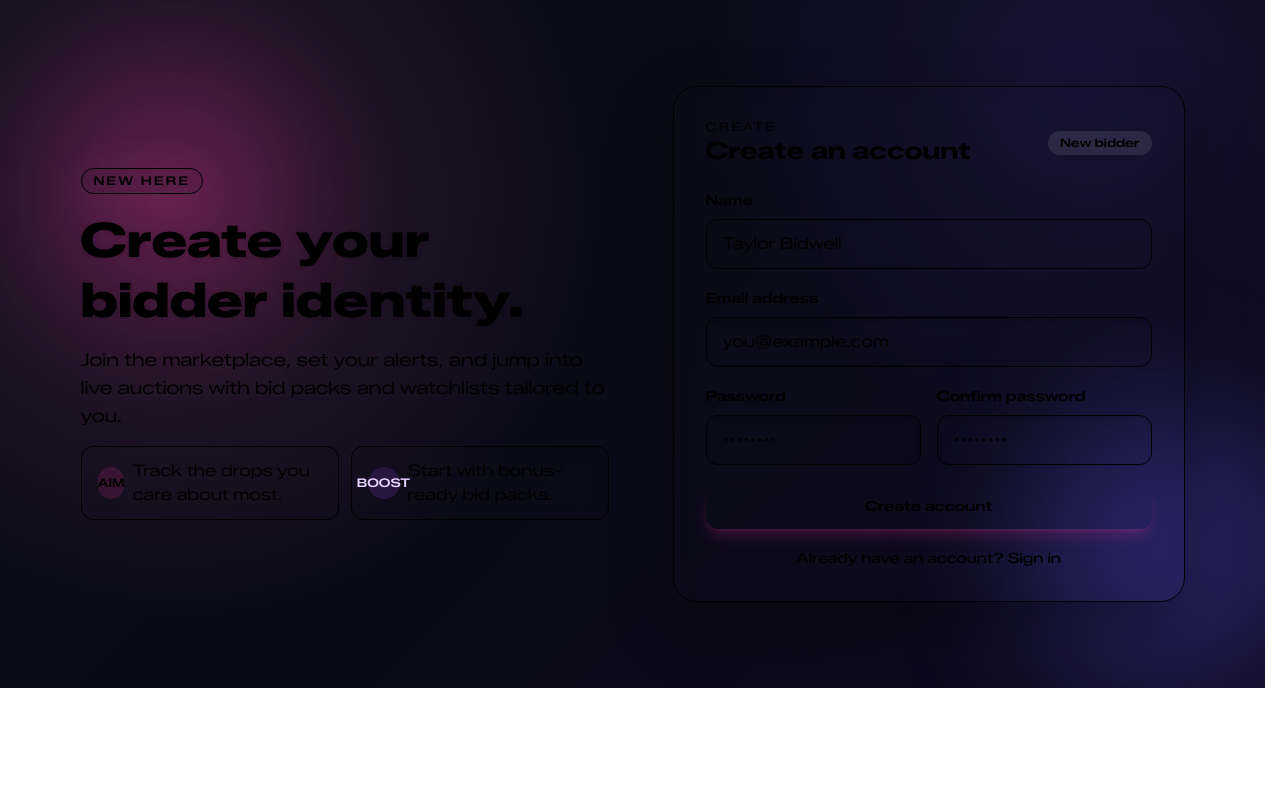
it: SignUpForm › shows an unexpected server response error when user is missing
Type "Test User" into the field labelled "Name".
click(928, 244); type("Test User")  # box [706,219,1152,269]
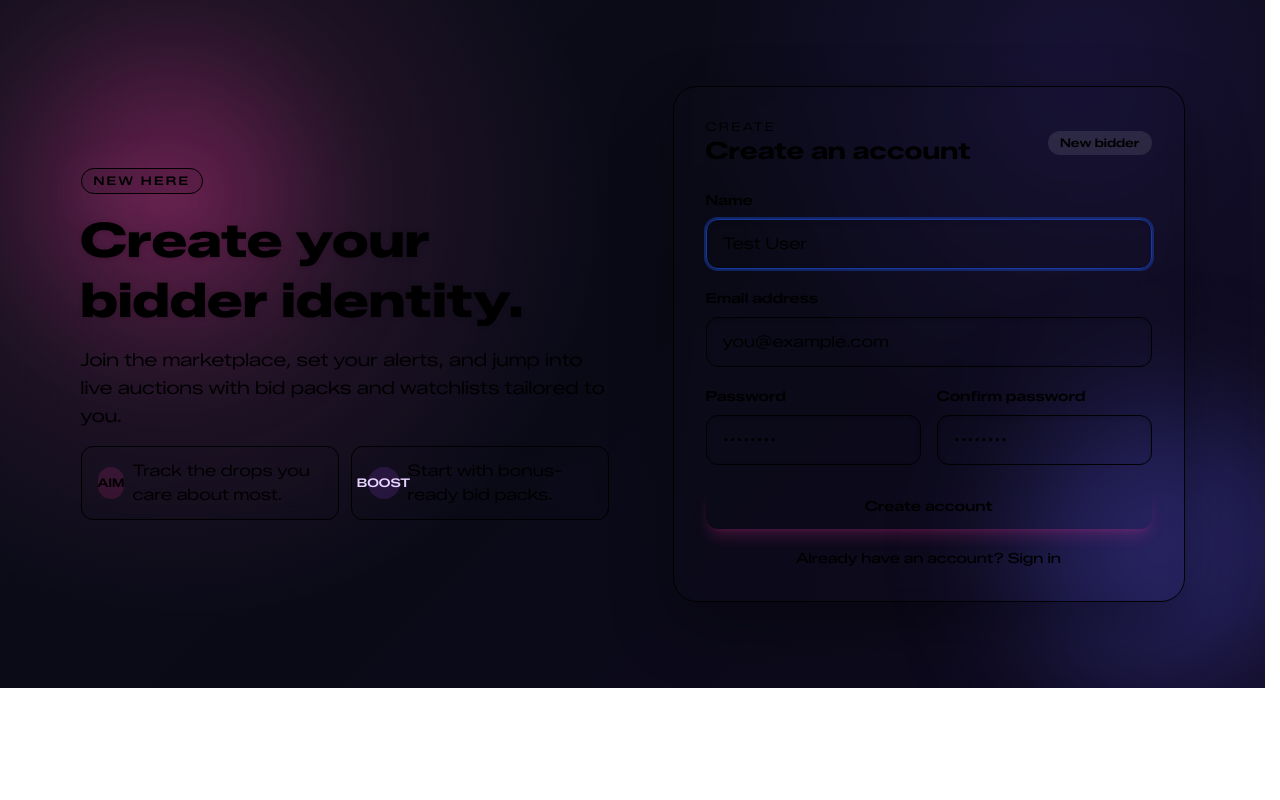
Type "test@example.com" into the field labelled "Email address".
click(928, 342); type("test@example.com")  # box [706,317,1152,367]
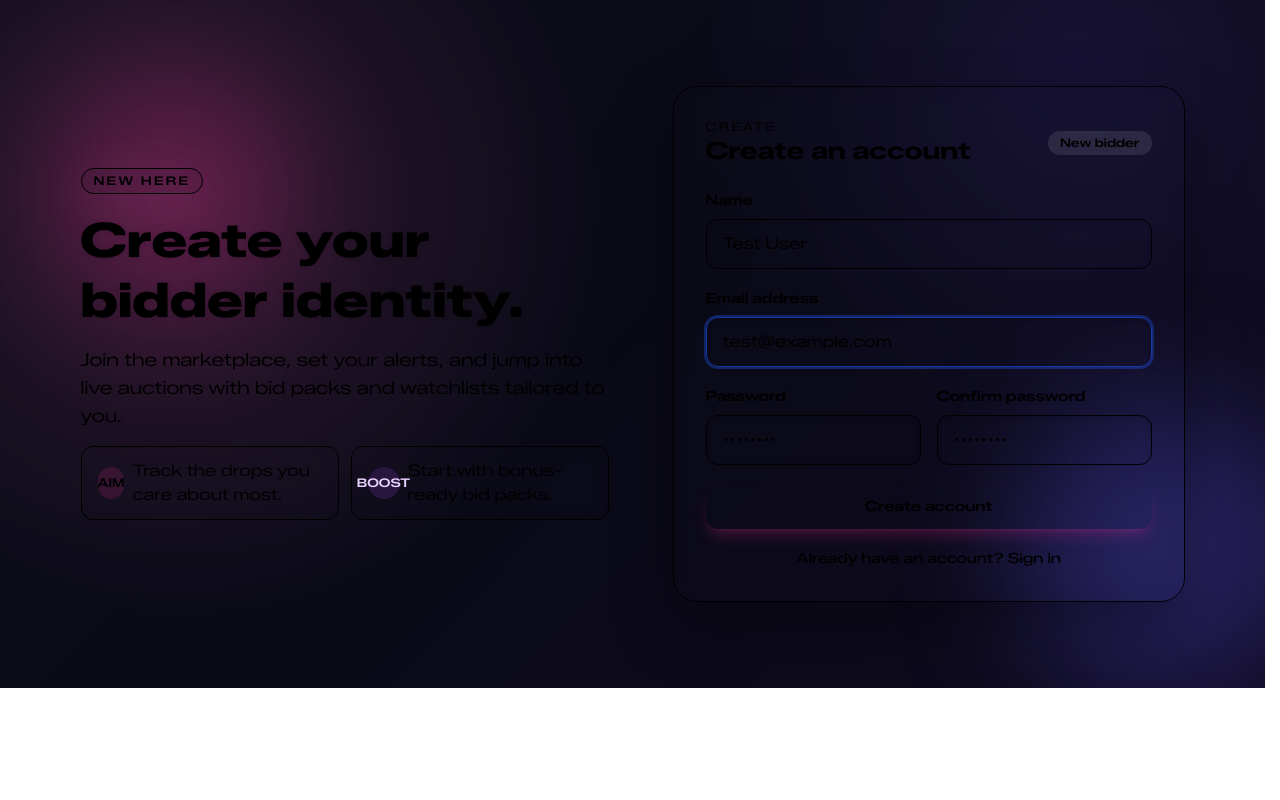
Type "password123" into the password field labelled "Password".
click(813, 440); type("password123")  # box [706,415,920,465]
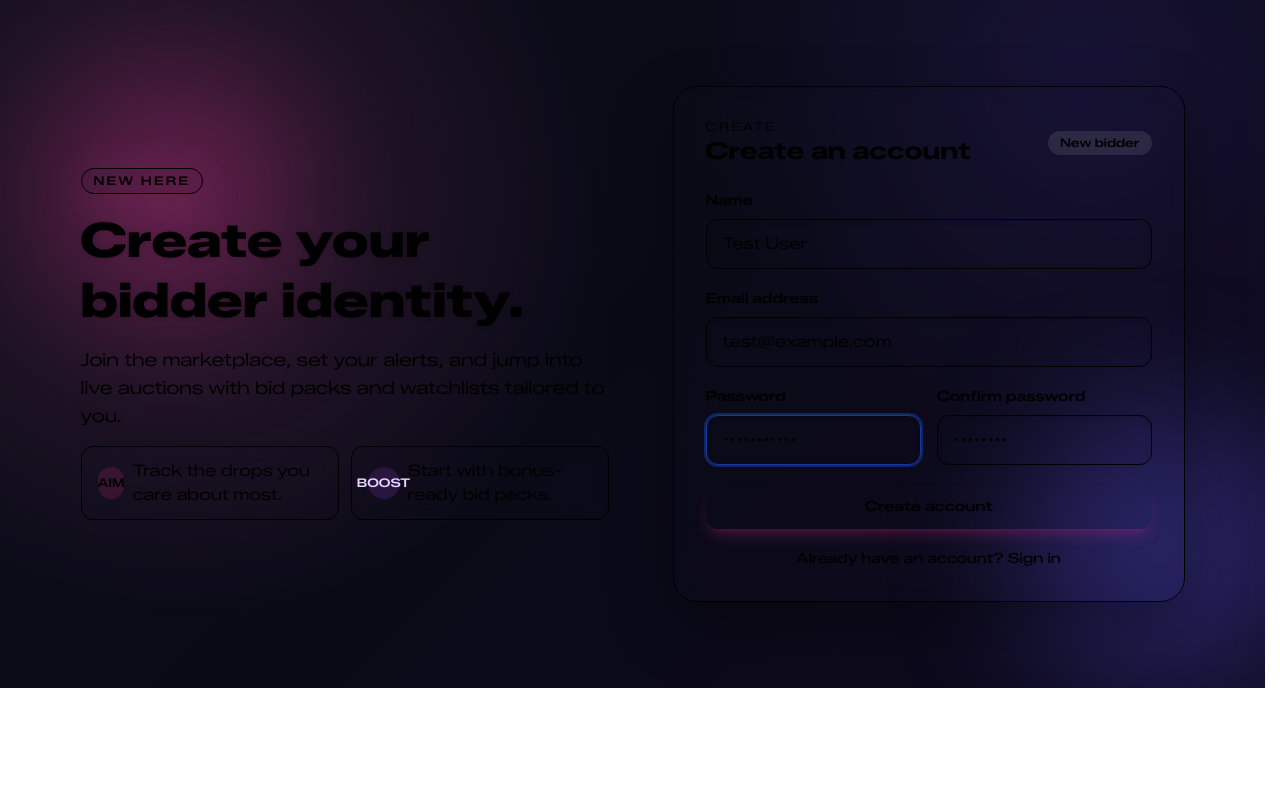
Type "password123" into the password field labelled "Confirm password".
click(1044, 440); type("password123")  # box [936,415,1152,465]
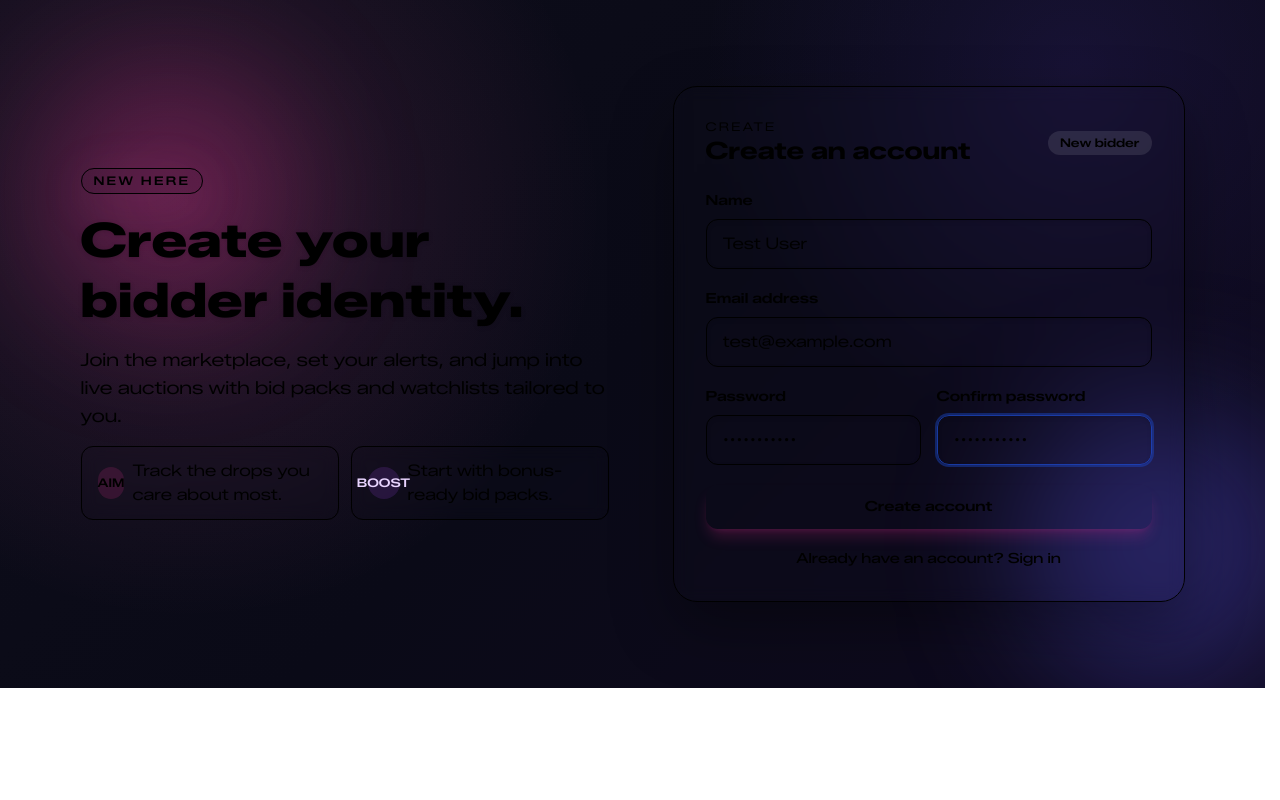
Click the button "Create account".
click(928, 507)  # box [706,485,1152,529]
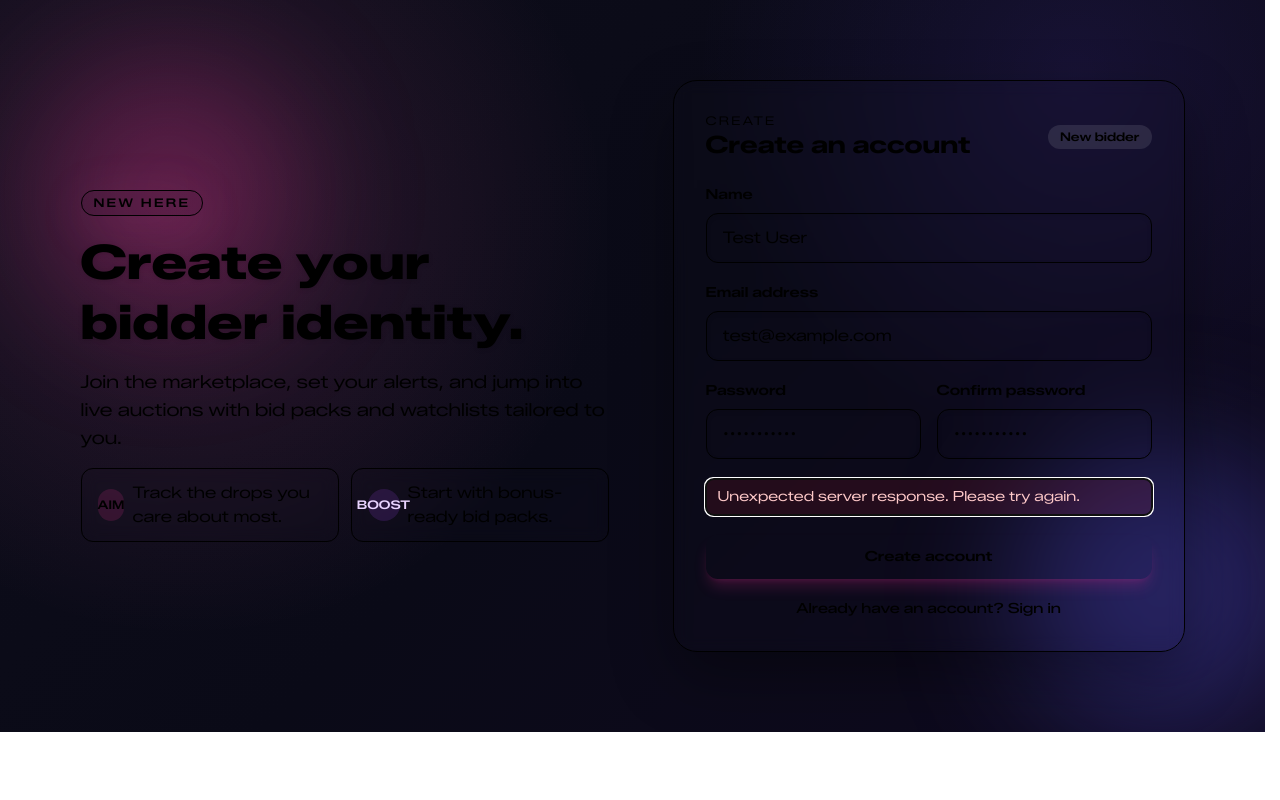
Result: the text "Unexpected server response. Please try again." is shown at [706,479,1152,515]
